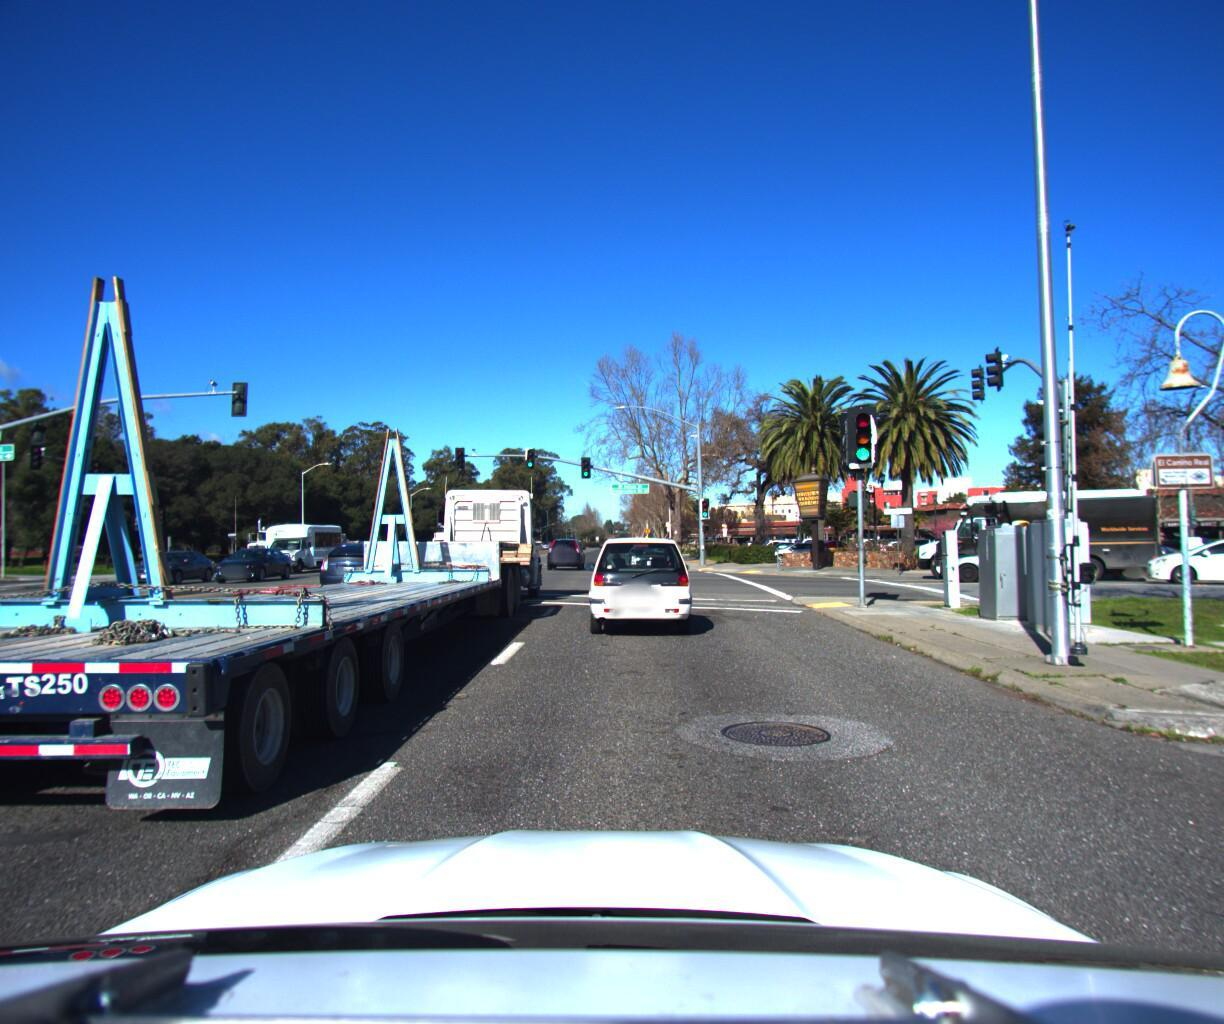bus: (254, 515, 349, 569)
car: (583, 529, 700, 630), (933, 527, 1092, 574), (308, 529, 415, 588), (1127, 524, 1224, 574), (118, 543, 221, 581), (206, 538, 300, 577), (767, 530, 831, 553), (545, 527, 586, 561)
truck: (0, 119, 563, 1011), (910, 472, 1148, 569), (924, 481, 1165, 573), (218, 514, 382, 574)
